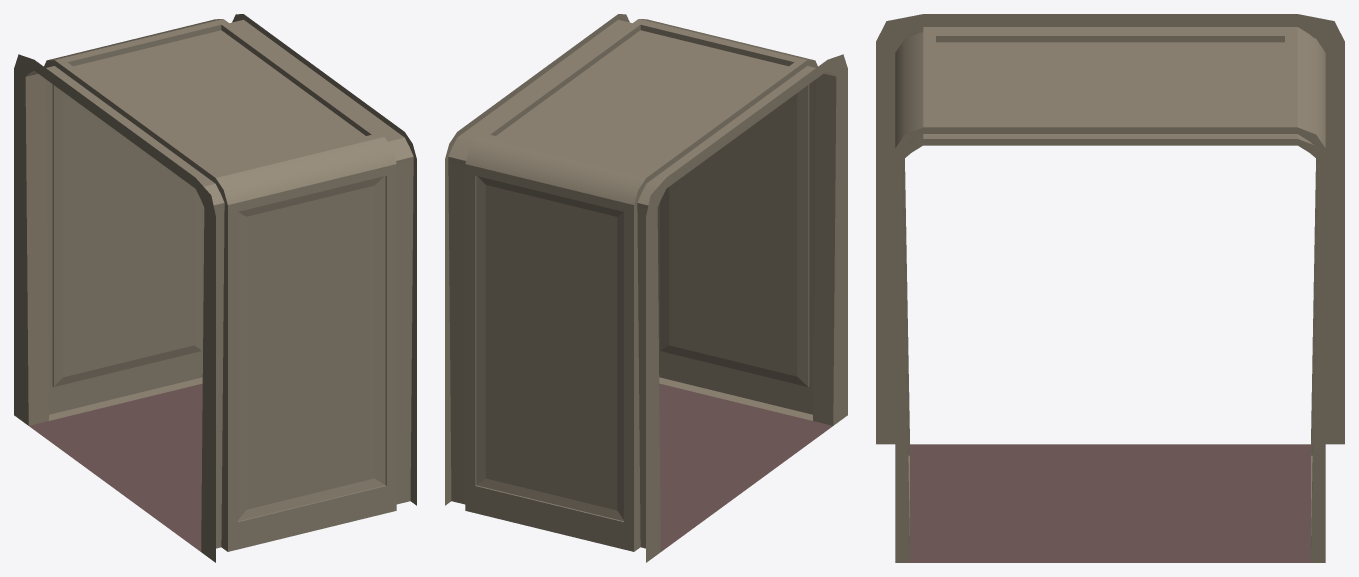
Rendered from Corridor_End_01.fbx.
3 renders of one model, left to right at view 1: azimuth 30°, elevation 25°; view 2: azimuth 150°, elevation 25°; view 3: azimuth 270°, elevation 25°, orthographic. The views are drawn at different scales.
Parts seen in each view (by area): view 1: pCube16; view 2: pCube16; view 3: pCube16.
Part boxes in pixels (x1,y1,x2,y2): pCube16: [14, 14, 416, 562]; pCube16: [445, 14, 847, 562]; pCube16: [876, 14, 1344, 562].
Size of the model in its own units: 150 by 254 by 250.
